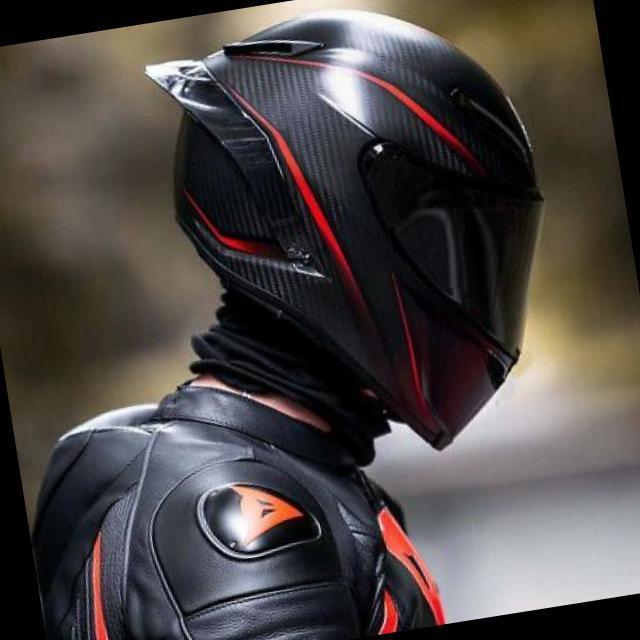Helm: (136, 0, 591, 491)
